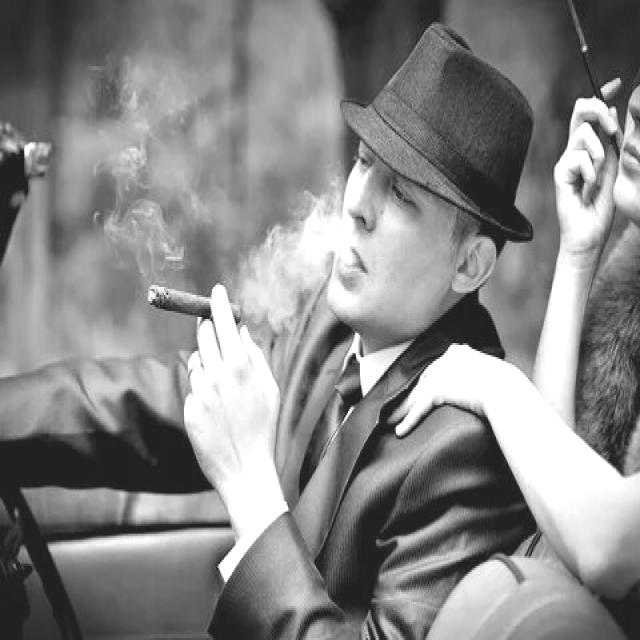smoke: (558, 0, 624, 168), (138, 283, 248, 335)
